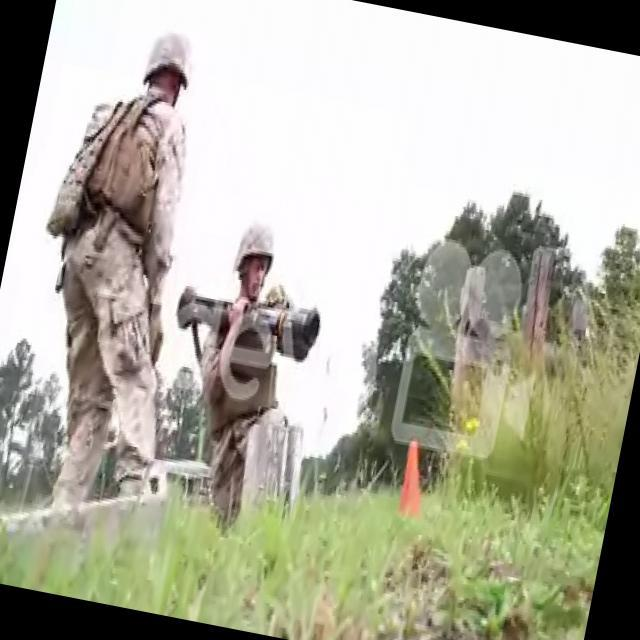rocket: (172, 280, 322, 360)
